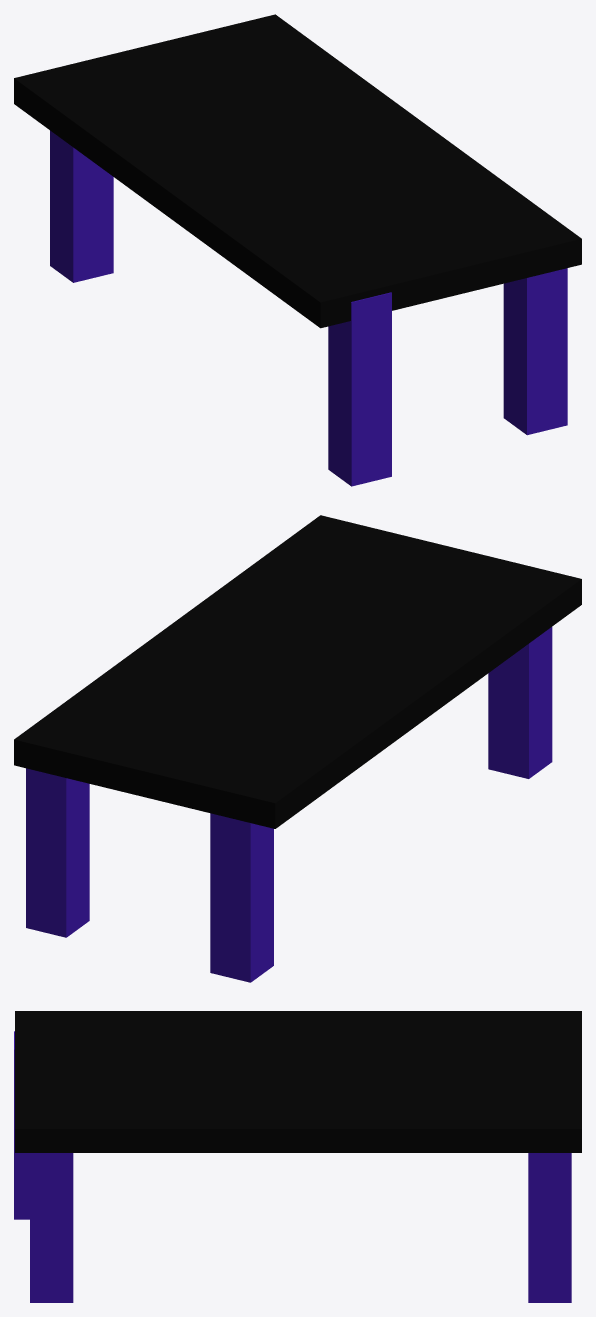
Rendered from TVTable.fbx.
3 views of the same model, one above another, from view 1: azimuth 30°, elevation 25°; view 2: azimuth 150°, elevation 25°; view 3: azimuth 270°, elevation 25° (orthographic). The views are drawn at different scales.
Parts seen in each view (by area): view 1: TVTable; view 2: TVTable; view 3: TVTable.
Part boxes in pixels (x1,y1,x2,y2): TVTable: [14, 14, 581, 486]; TVTable: [14, 515, 581, 982]; TVTable: [14, 1011, 581, 1302].
Size of the model in its own units: 109 by 76 by 222.
